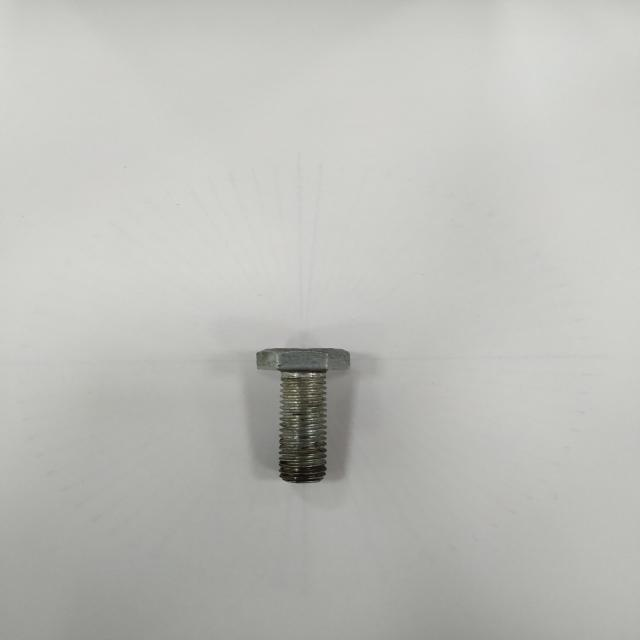Bolt: (257, 349, 350, 482)
